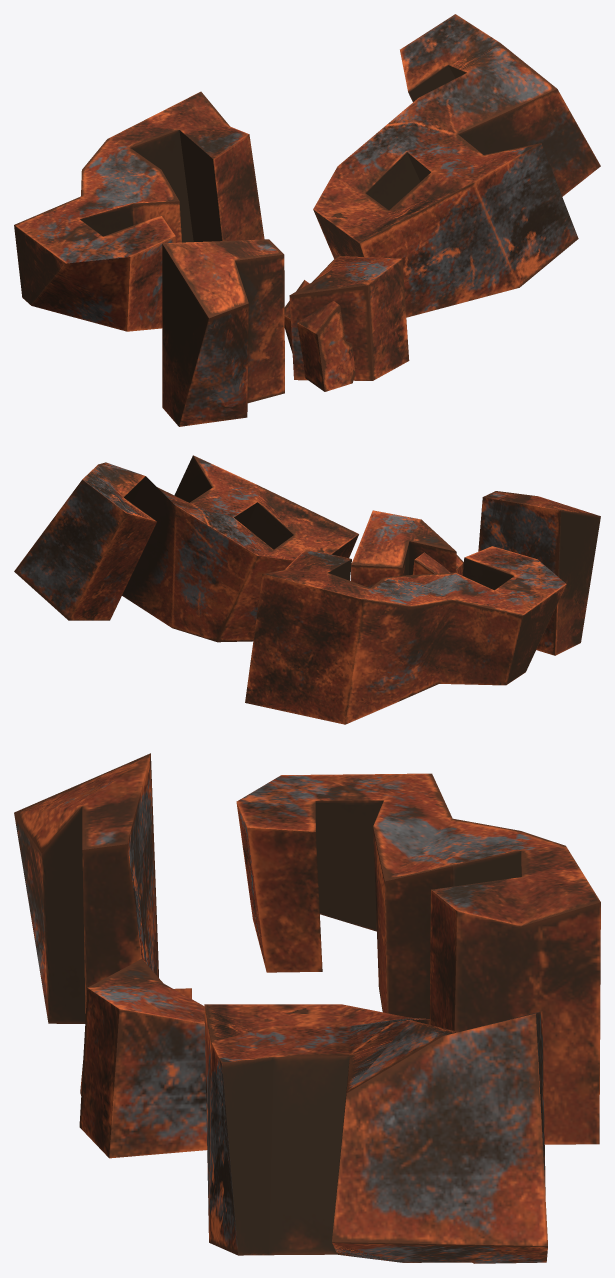
The model's file is ruble.glb.
3 views of the same model, one above another, from view 1: azimuth 30°, elevation 25°; view 2: azimuth 150°, elevation 25°; view 3: azimuth 270°, elevation 25° (orthographic). The views are drawn at different scales.
Parts seen in each view (by area): view 1: Object_12; view 2: Object_12; view 3: Object_12.
Boxes of the visible parts, bbox=[...] form: Object_12: bbox=[14, 14, 600, 426]; Object_12: bbox=[14, 455, 600, 724]; Object_12: bbox=[14, 753, 600, 1263].
Bounding box in the file's own units: 0.3688 × 0.1257 × 0.2322.
1 material, 1 textured.
